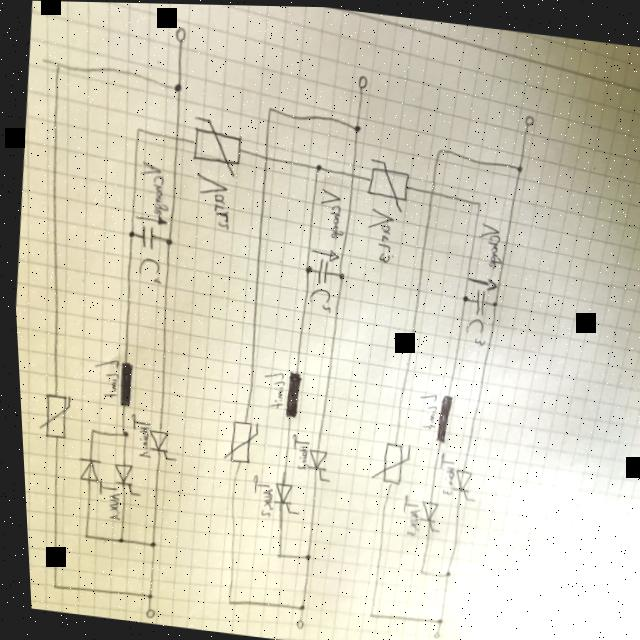capacitor: (135, 220, 153, 248), (312, 253, 326, 283), (469, 283, 483, 313)
crossover: (345, 167, 355, 178), (425, 184, 435, 194), (260, 149, 268, 160), (171, 130, 178, 141)
diode: (69, 454, 96, 482)
inductor: (427, 389, 451, 441), (277, 366, 300, 417), (111, 358, 131, 405)
junction: (170, 79, 182, 92), (52, 55, 61, 71), (299, 261, 310, 272), (351, 119, 360, 132), (124, 226, 133, 239), (311, 159, 321, 170), (114, 426, 124, 437), (433, 143, 442, 155), (138, 589, 147, 600), (161, 234, 170, 245), (333, 267, 342, 277), (290, 600, 299, 610), (141, 537, 151, 546), (457, 290, 465, 301), (487, 295, 495, 306), (437, 565, 445, 576), (513, 160, 521, 169), (411, 564, 419, 573), (428, 613, 436, 622), (297, 549, 305, 558), (268, 548, 276, 557), (110, 534, 118, 543), (83, 425, 91, 434), (218, 594, 225, 604), (264, 102, 271, 111), (76, 530, 83, 539), (44, 580, 51, 589), (133, 122, 140, 131), (360, 608, 367, 616), (472, 197, 479, 204)
terminal: (171, 22, 186, 42), (355, 70, 367, 87), (137, 604, 148, 618), (522, 110, 533, 123), (288, 614, 297, 627), (424, 626, 434, 637)
text: (187, 168, 233, 229), (131, 157, 171, 215), (358, 202, 395, 262), (313, 183, 346, 238), (470, 216, 503, 267), (121, 409, 150, 458), (86, 354, 117, 398), (88, 476, 118, 520), (243, 471, 271, 515), (254, 366, 282, 409), (429, 447, 453, 494), (393, 490, 417, 535), (131, 251, 161, 285), (282, 430, 306, 470), (411, 387, 434, 428), (302, 283, 330, 312), (459, 312, 484, 343)
thyristor: (299, 444, 327, 481), (140, 426, 170, 459), (105, 460, 134, 494), (265, 478, 293, 513), (445, 464, 472, 499), (410, 495, 437, 529)
